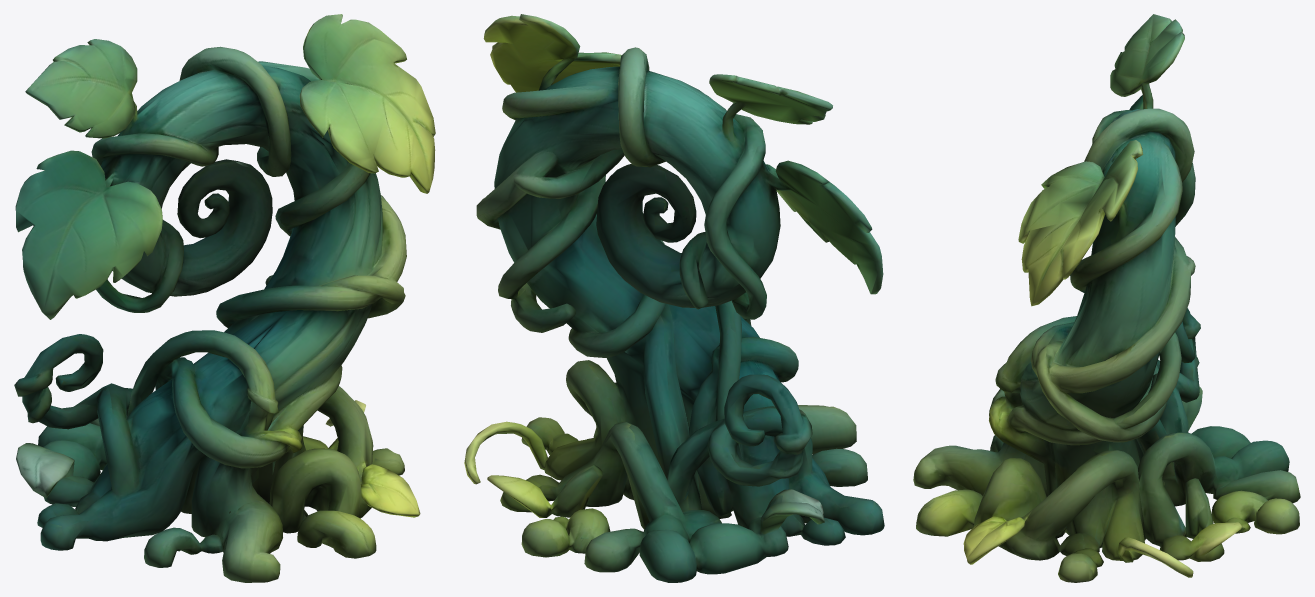
Rendered from vine.glb.
The picture shows the model from 3 angles, left to right: view 1: azimuth 30°, elevation 25°; view 2: azimuth 150°, elevation 25°; view 3: azimuth 270°, elevation 25°; orthographic projection. The views are drawn at different scales.
Visible parts, largest first — view 1: node_0; view 2: node_0; view 3: node_0.
Boxes of the visible parts, box(x1,y1,x2,y2) form: node_0: box(14, 14, 435, 582); node_0: box(464, 14, 884, 582); node_0: box(913, 14, 1300, 582).
Bounding box in the file's own units: 0.8267 × 0.9122 × 0.7413.
1 material, 1 textured.
